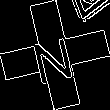N_N: (30, 26, 80, 84)
